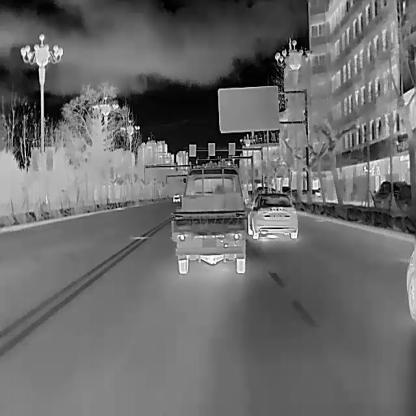car: (170, 166, 246, 272), (247, 193, 298, 238), (371, 180, 412, 206), (172, 193, 181, 202)
